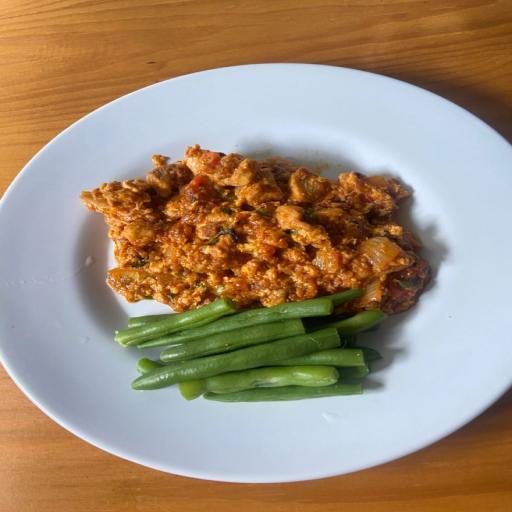buncis_rebus: (100, 303, 408, 408)
